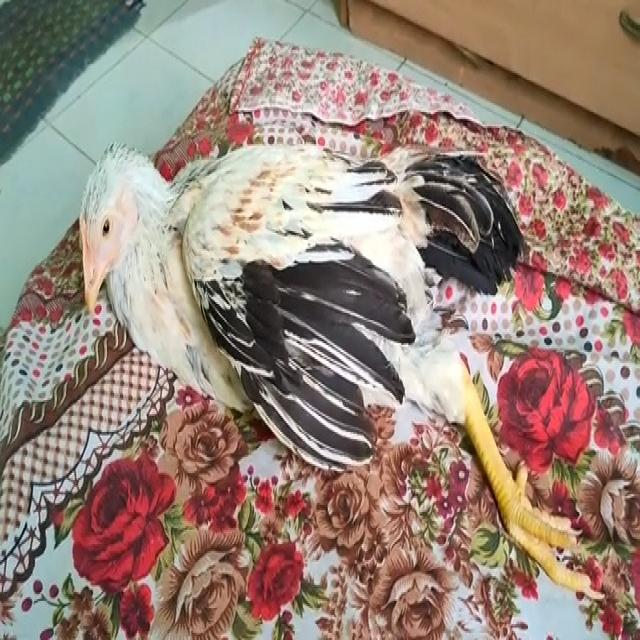leg stretching: (81, 101, 607, 624)
